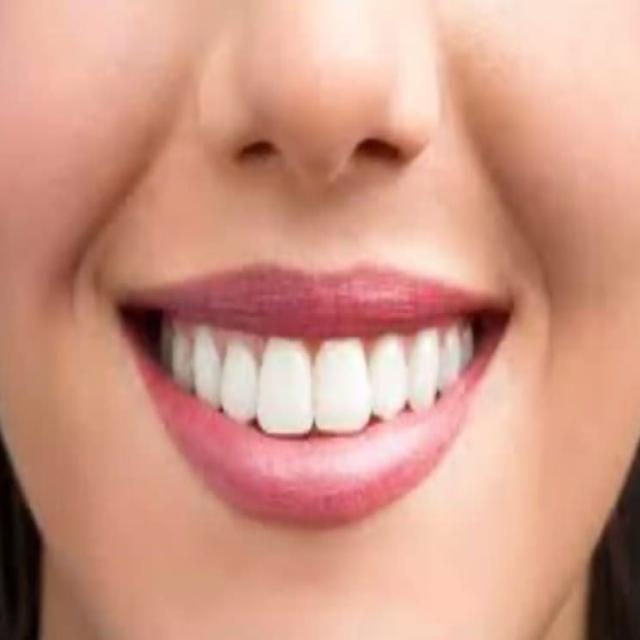tooth: (317, 348, 371, 431), (257, 338, 303, 429), (370, 347, 407, 407), (412, 336, 439, 406), (226, 347, 246, 417), (174, 334, 192, 388), (194, 362, 218, 389), (445, 340, 461, 380)
